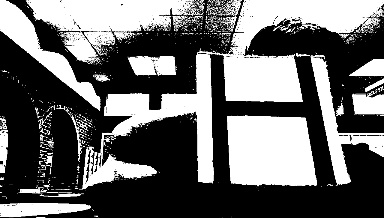H: (195, 54, 340, 184)
